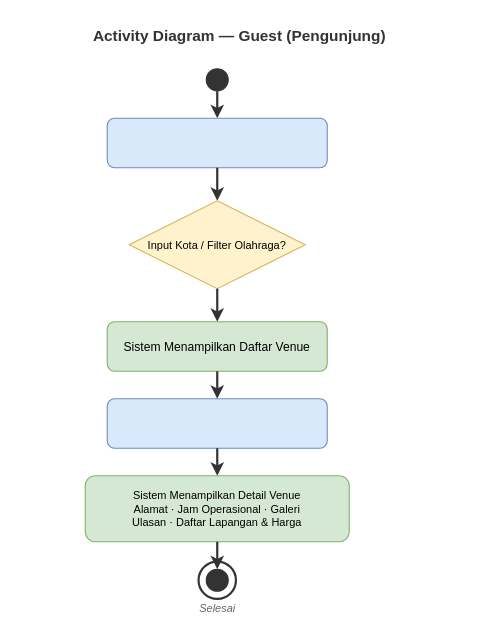
Some shapes in this 477 by 637 pixel diagram are drawn without their labels. The box of each missing label's shape, as (x1, y1, x2, y2) in pixels:
Guest Memilih Venue: (106, 398, 327, 448)
Mengunjungi Website FieldMax: (106, 117, 327, 168)
